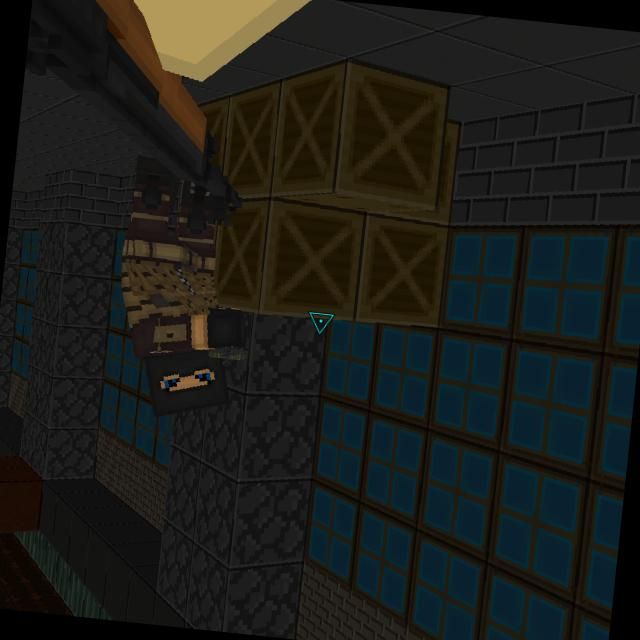enemy: (99, 150, 262, 422)
